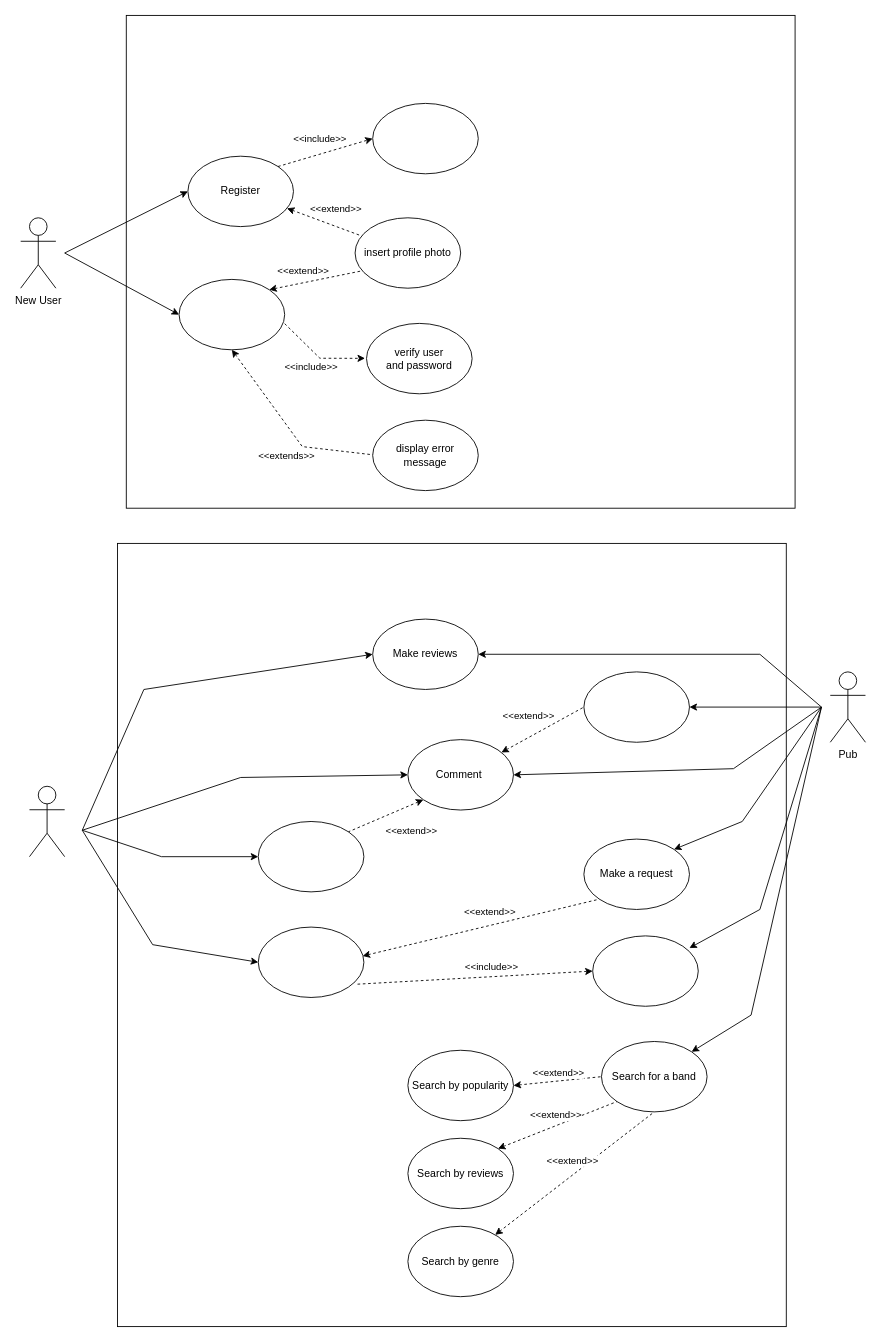
Some shapes in this 881 by 1342 pixel diagram are drawn without their labels. The centre of each missing label's shape, as x and y in pixels:
"Accept requests" goes at (x=310, y=961).
"Band" goes at (x=47, y=821).
"Boooking an event" goes at (x=645, y=970).
"Choose profile type" goes at (x=425, y=138).
"Login" goes at (x=231, y=314).
"Offer Service" goes at (x=310, y=856).
"Post new demand" goes at (x=636, y=706).
